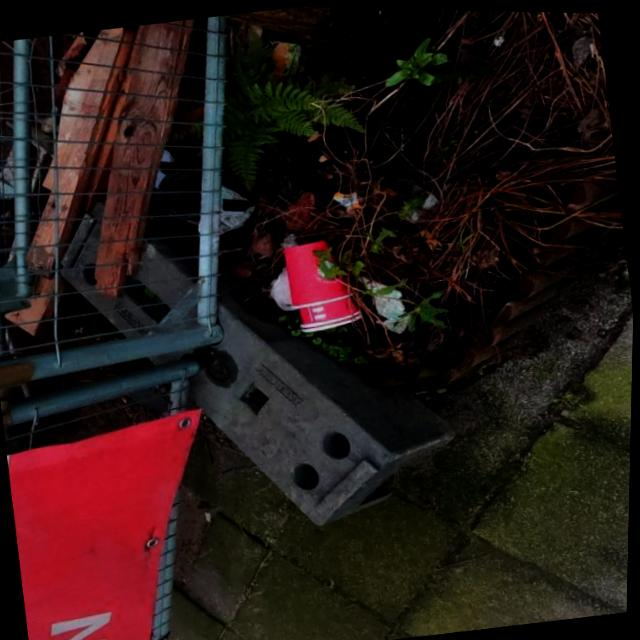Cup: (266, 227, 372, 343)
Paper: (355, 266, 415, 338)
Plastic: (331, 186, 362, 212)
